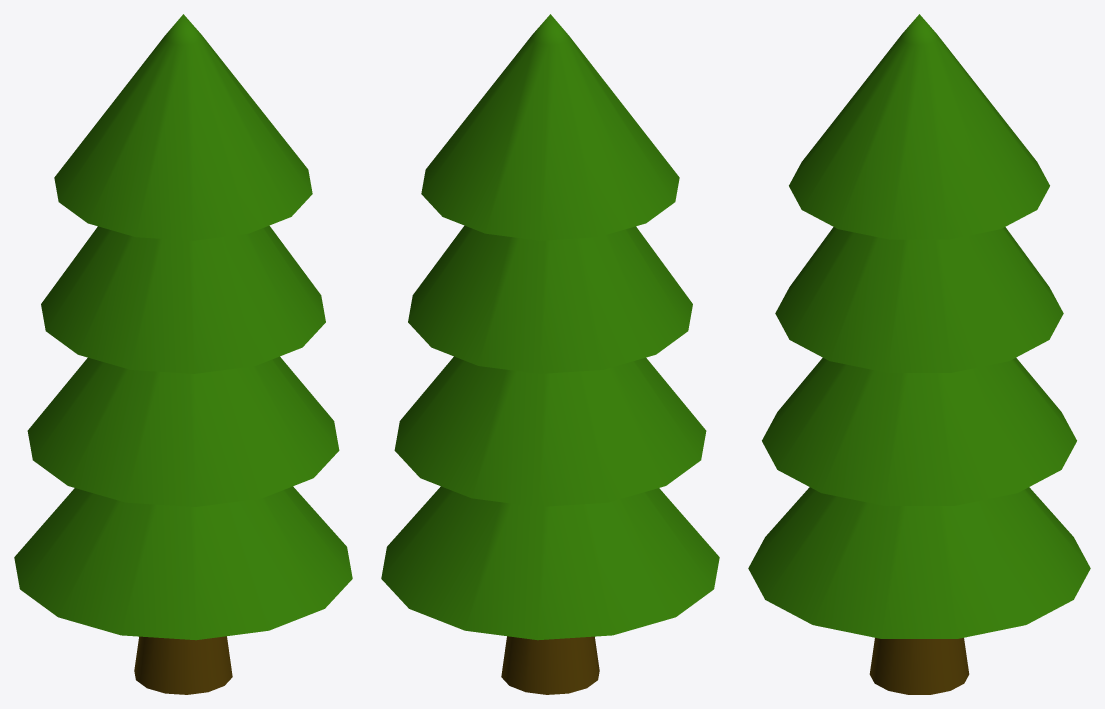
The model's file is Small_Tree1.fbx.
3 renders of one model, left to right at view 1: azimuth 30°, elevation 25°; view 2: azimuth 150°, elevation 25°; view 3: azimuth 270°, elevation 25°, orthographic.
Parts seen in each view (by area): view 1: Small_Tree.001; view 2: Small_Tree.001; view 3: Small_Tree.001.
Part boxes in pixels (x1,y1,x2,y2): Small_Tree.001: (14,14,352,694); Small_Tree.001: (381,14,719,694); Small_Tree.001: (748,14,1090,694).
Bounding box in the file's own units: 143 × 311 × 146.
